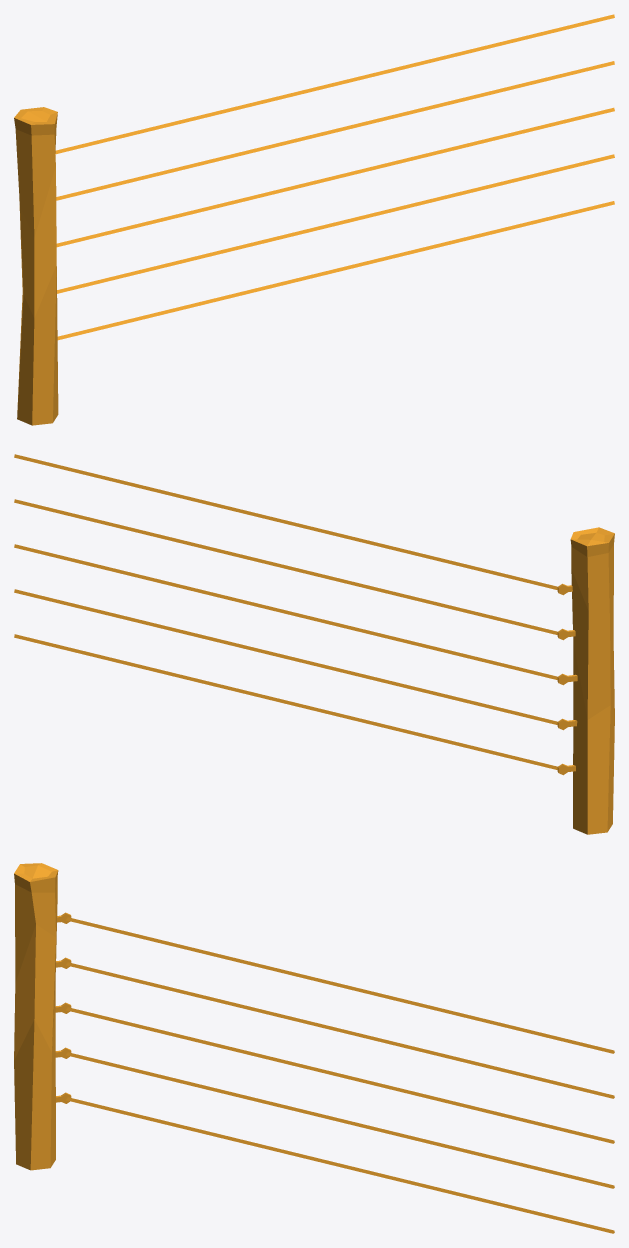
Rendered from SM_Fence_Electric_3m_B.fbx.
The picture shows the model from 3 angles, top to bottom: view 1: azimuth 30°, elevation 25°; view 2: azimuth 150°, elevation 25°; view 3: azimuth 330°, elevation 25°; orthographic projection. The views are drawn at different scales.
Visible parts, largest first — view 1: fence-electric-3m-b; view 2: fence-electric-3m-b; view 3: fence-electric-3m-b.
Part boxes in pixels (<box>): fence-electric-3m-b: <box>14,14,614,425</box>; fence-electric-3m-b: <box>14,454,614,834</box>; fence-electric-3m-b: <box>14,863,614,1233</box>.
Size of the model in its own units: 3.21 by 1.52 by 0.2331.
